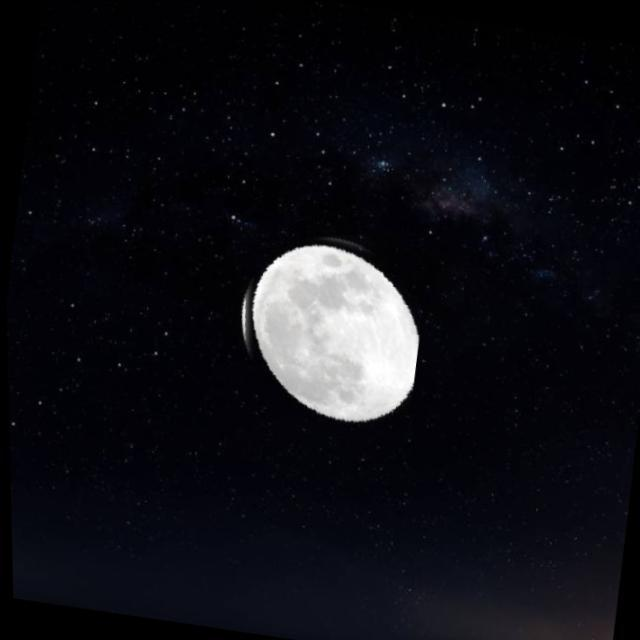moon: (217, 214, 433, 434)
